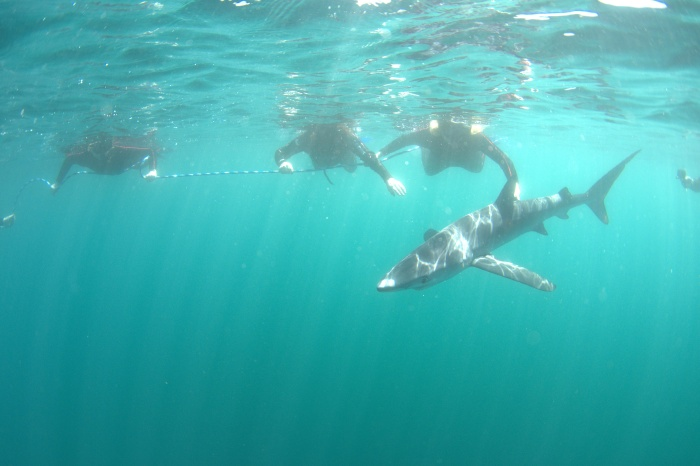Azul: (375, 148, 646, 325)
